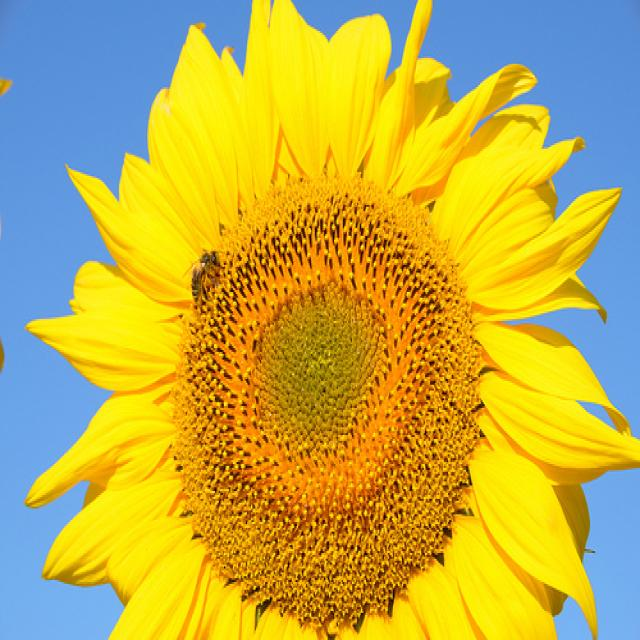sunflower: (40, 2, 636, 640)
